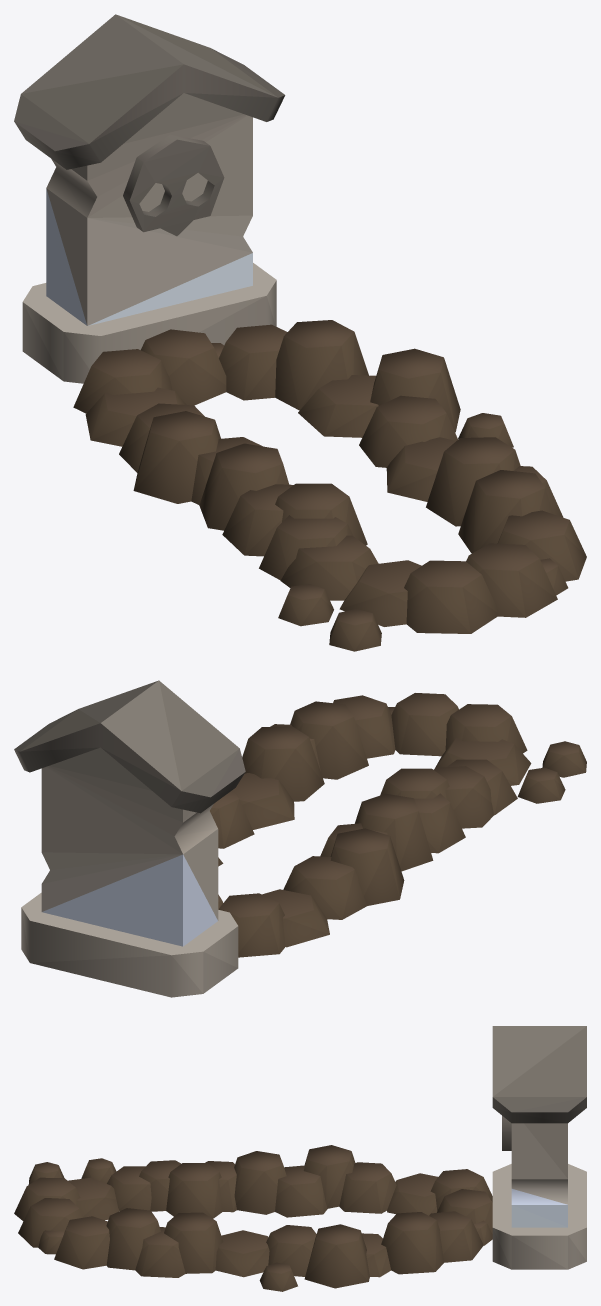
Rendered from kenney_graveyard_grave_border_gravestone_roof.glb.
3 views of the same model, one above another, from view 1: azimuth 30°, elevation 25°; view 2: azimuth 150°, elevation 25°; view 3: azimuth 270°, elevation 25° (orthographic). The views are drawn at different scales.
Visible parts, largest first — view 1: stone (×2), cloth; view 2: stone (×2), cloth; view 3: stone (×2), cloth.
Boxes of the visible parts, x1,y1,x2,y2 form: stone (×2): (14,14,586,651); cloth: (46,189,252,325); stone (×2): (14,680,586,997); cloth: (42,854,217,946); stone (×2): (14,1026,586,1291); cloth: (511,1189,567,1227).
Bounding box in the file's own units: 0.7617 × 0.6076 × 1.52.
